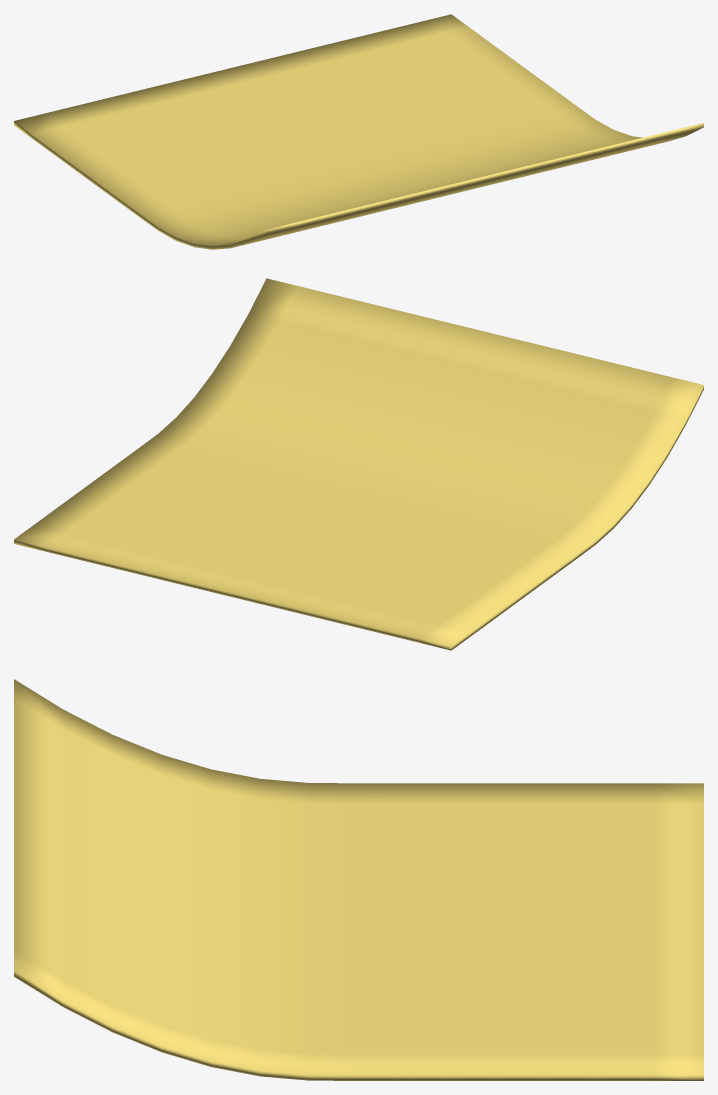
File: PostIt_B.fbx
The picture shows the model from 3 angles, top to bottom: view 1: azimuth 30°, elevation 25°; view 2: azimuth 150°, elevation 25°; view 3: azimuth 270°, elevation 25°; orthographic projection. The views are drawn at different scales.
Visible parts, largest first — view 1: PostIt_B; view 2: PostIt_B; view 3: PostIt_B.
Part boxes in pixels (box(x1,y1,x2,y2)): PostIt_B: box(14, 14, 703, 249); PostIt_B: box(14, 278, 703, 650); PostIt_B: box(14, 679, 703, 1080).
Size of the model in its own units: 0.036 by 0.00635 by 0.036.
